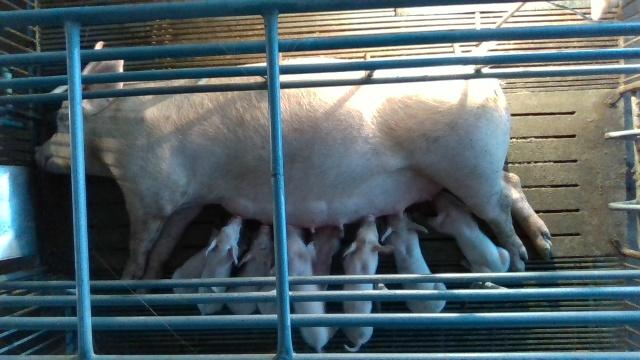piglet: (341, 212, 395, 352), (283, 224, 339, 354), (382, 212, 448, 312), (430, 193, 510, 272), (196, 214, 244, 315), (224, 223, 273, 316), (170, 225, 220, 293)
sow-sleep-lactate: (32, 38, 554, 293)
